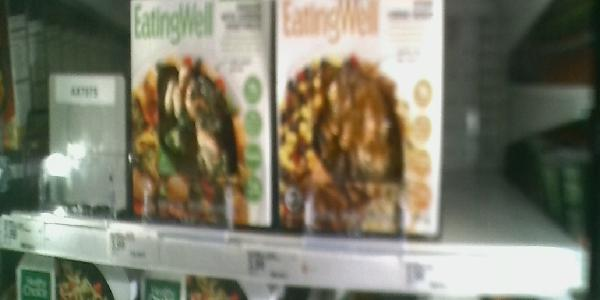pizza1: (276, 1, 443, 242), (131, 1, 270, 228)
